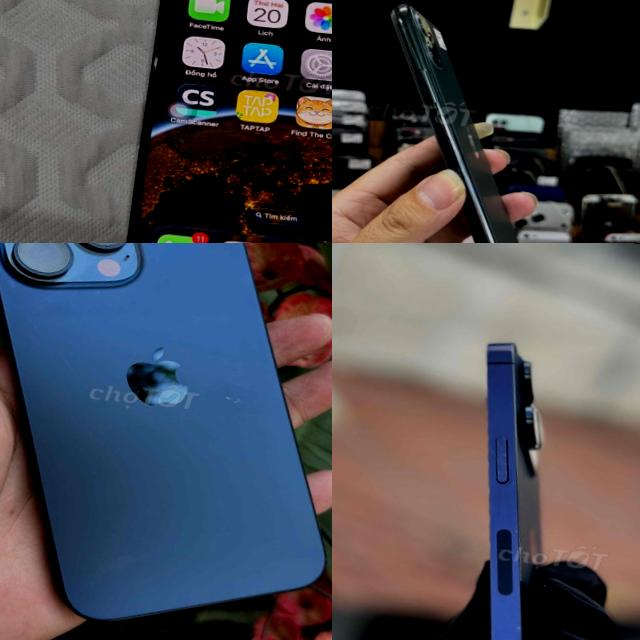gen_11: (358, 0, 566, 243)
gen_14: (427, 321, 596, 640)
gen_15: (0, 243, 332, 640), (89, 0, 332, 243)
